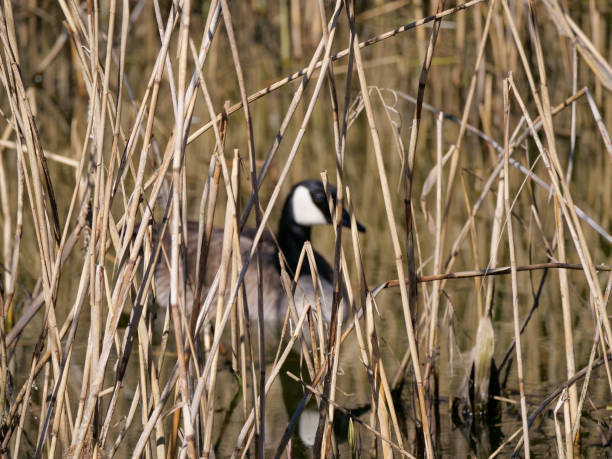goose: (90, 174, 370, 359)
